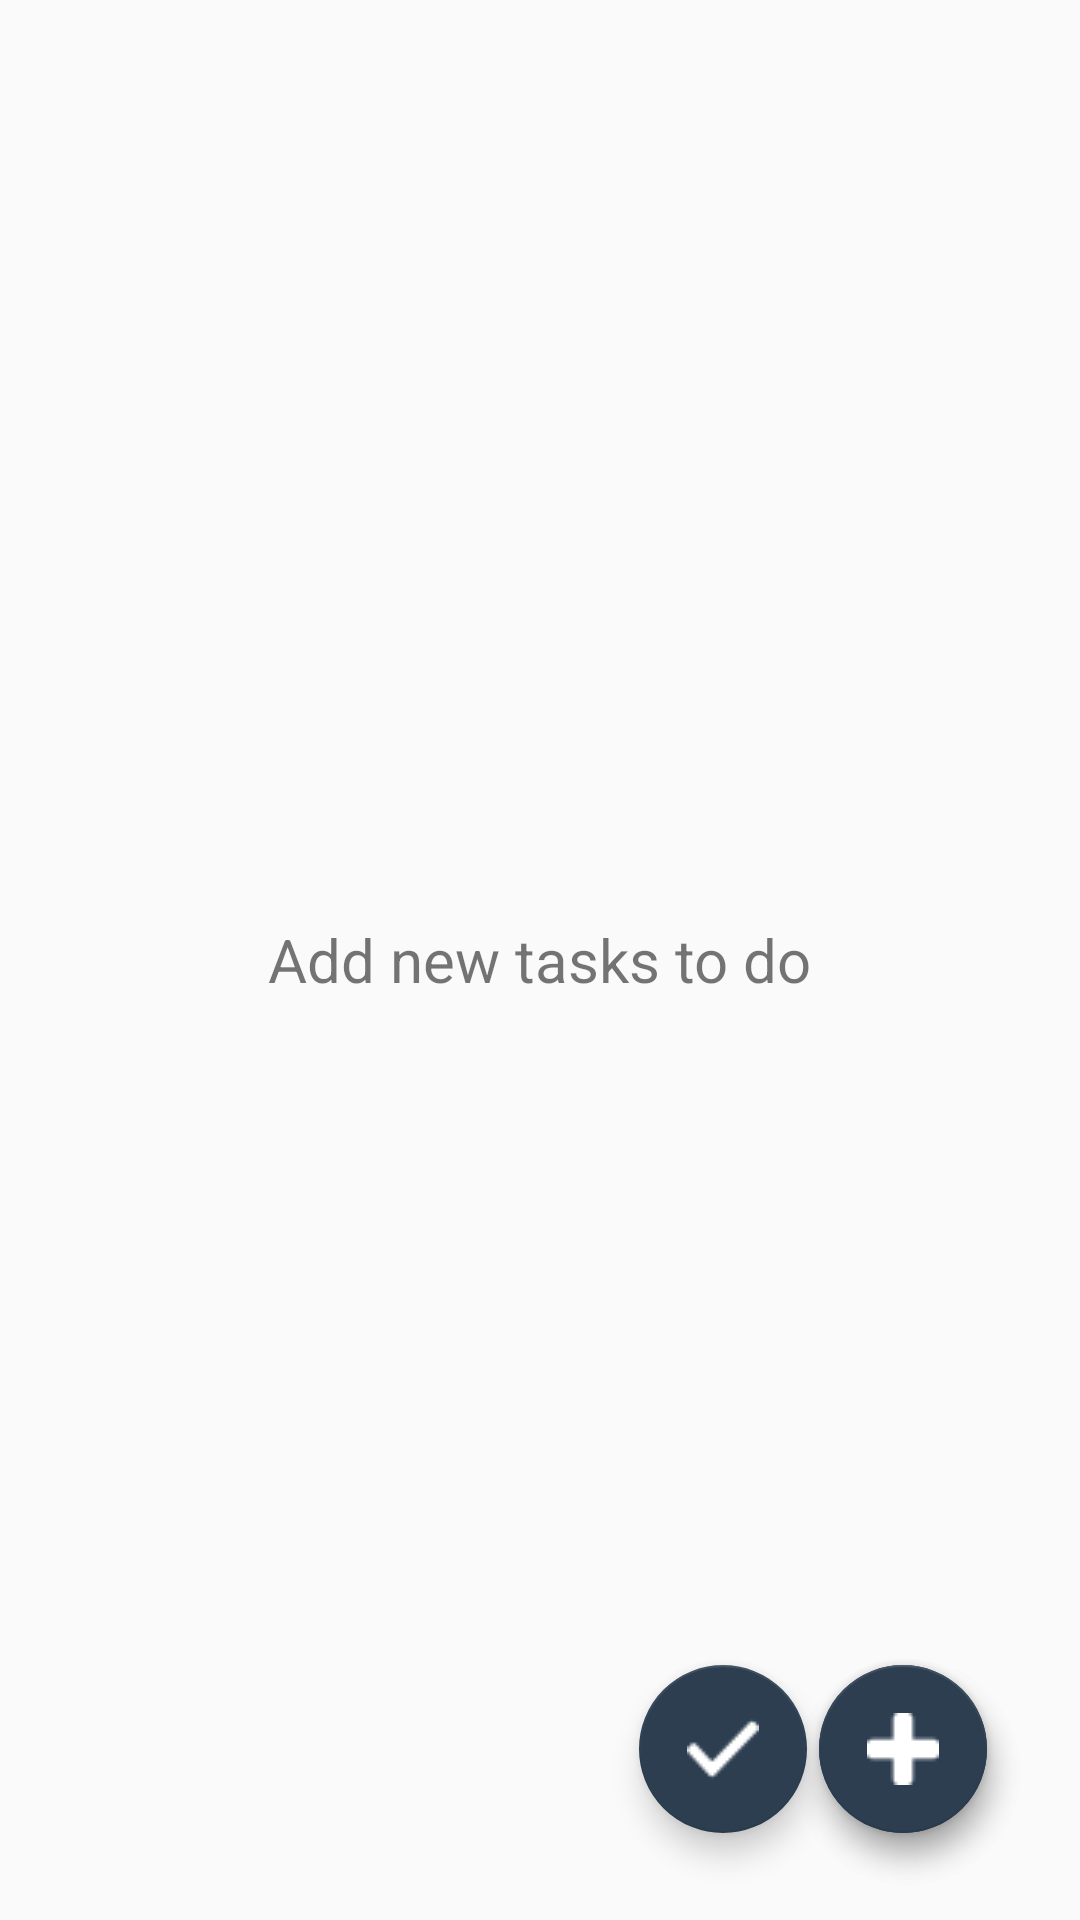

Icons on this 1080*1920 Android screen, each with the point to tap as point (x, y):
checked: point (723, 1749)
